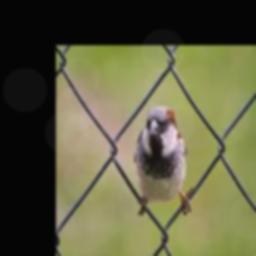Sparrow: (134, 105, 187, 204)
